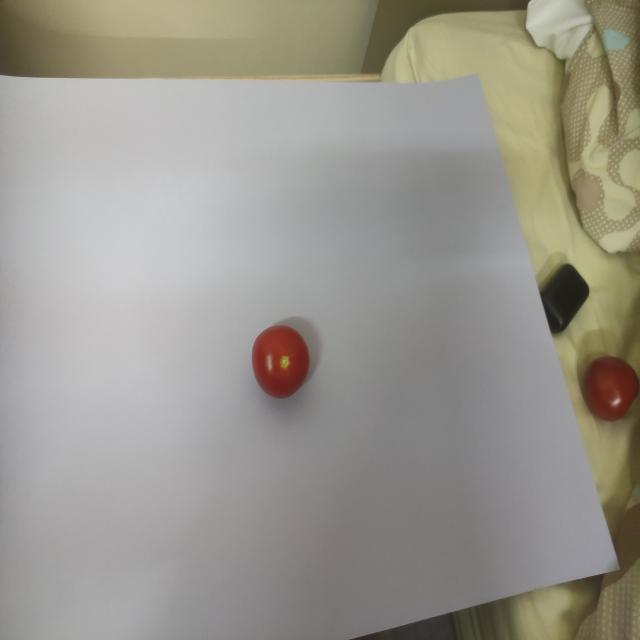kirmizi: (243, 315, 324, 417)
